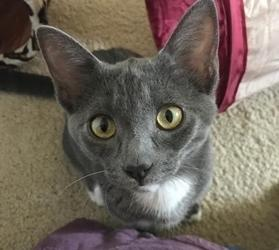rblue: (25, 1, 237, 194)
